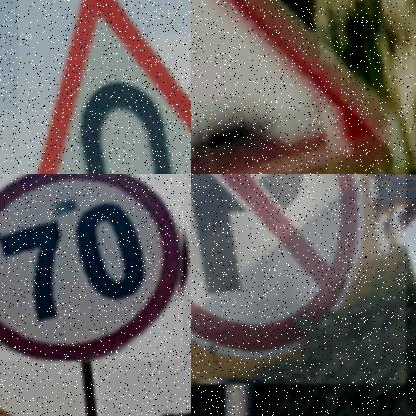No Parking: (191, 174, 406, 384)
Speed Breaker Ahead: (191, 0, 415, 174)
U-Turn: (42, 0, 191, 174)
